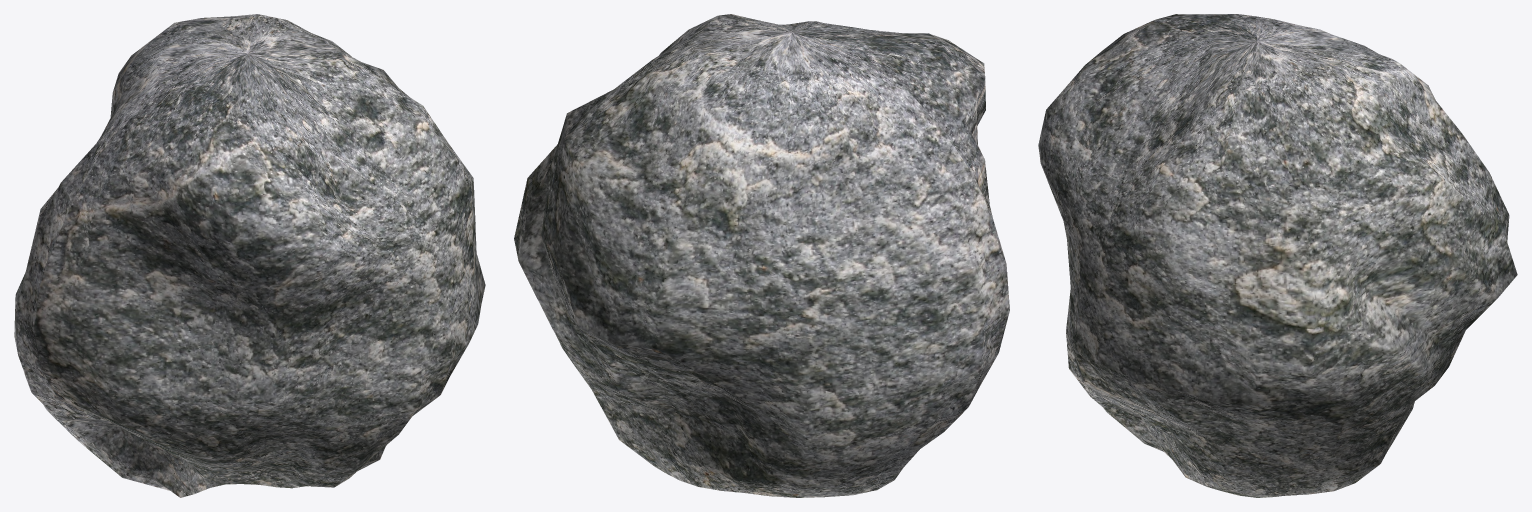
The model's file is Stone.fbx.
3 views of the same model, side by side, from view 1: azimuth 30°, elevation 25°; view 2: azimuth 150°, elevation 25°; view 3: azimuth 270°, elevation 25° (orthographic). The views are drawn at different scales.
Visible parts, largest first — view 1: Sphere; view 2: Sphere; view 3: Sphere.
Part boxes in pixels (box(x1,y1,x2,y2)): Sphere: box(14, 14, 485, 497); Sphere: box(514, 14, 1009, 497); Sphere: box(1038, 14, 1517, 497).
Size of the model in its own units: 219 by 197 by 205.
